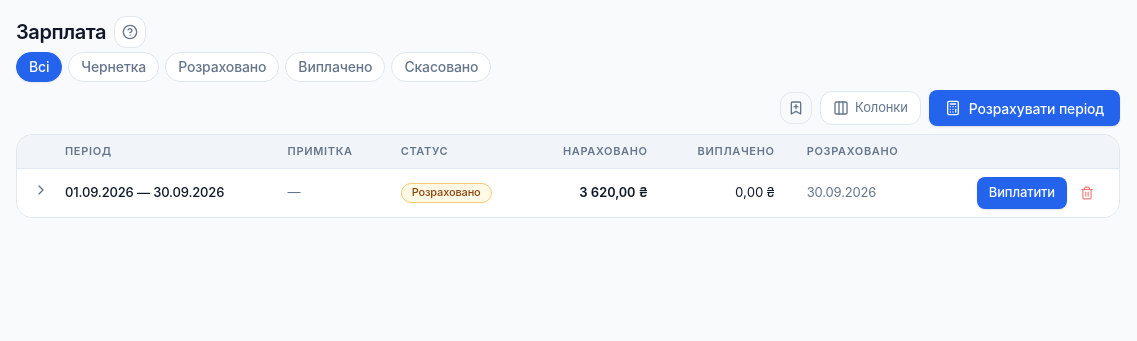
Test case: Payroll — розшифровка по нарядах (drill-down) › окладник без робіт (linesCount=0, workOrders=[]) → «лише оклад», а не «період до впровадження»
Click the button named "Розгорнути": (41, 190) [33,182,49,198]
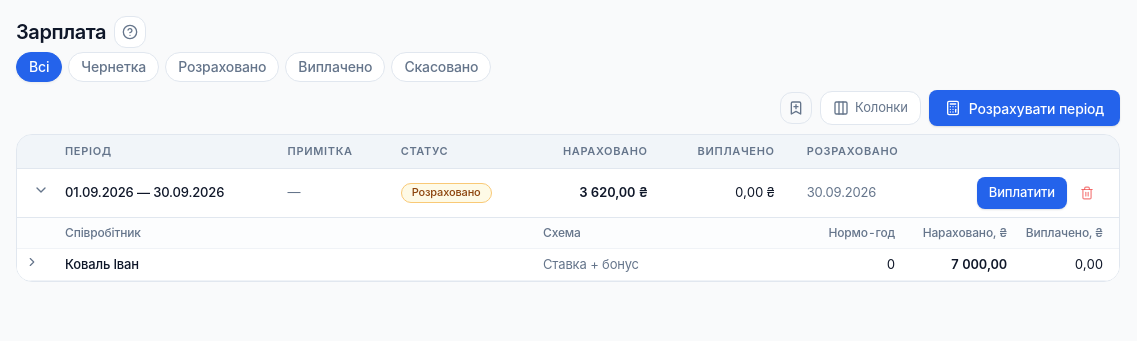
Expected: the text "Коваль Іван" is shown, [49,248,543,280]
Click the button named "Показати наряди": (32, 262) [25,254,39,268]
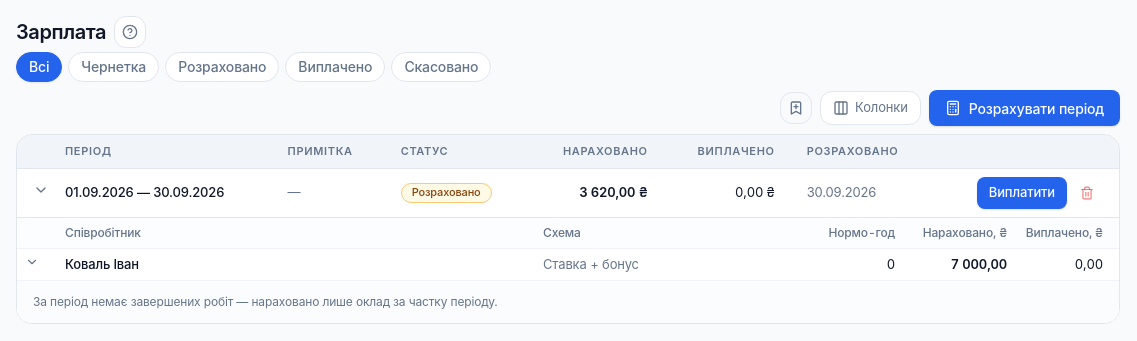
Expected: the text "За період немає завершених робіт — нараховано лише оклад за частку періоду." is shown, [33,294,498,309]
